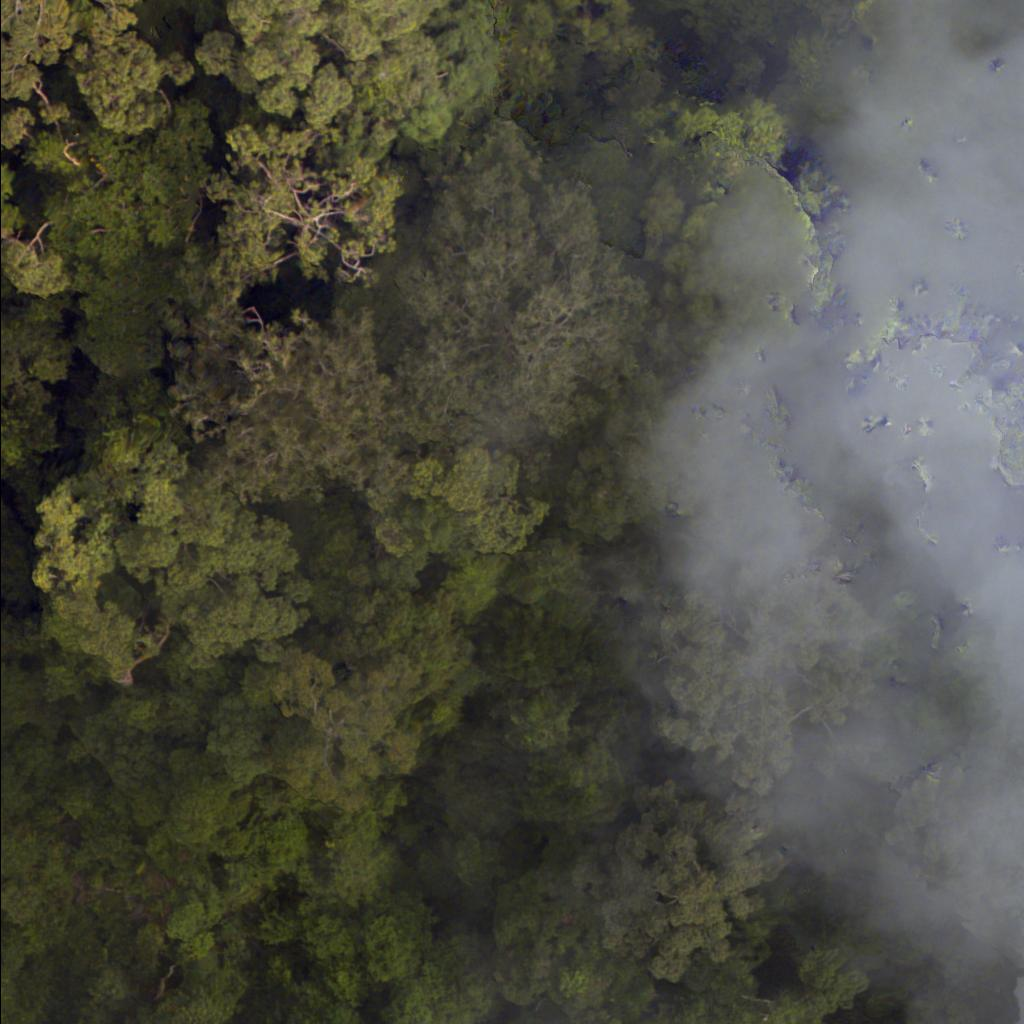crown: (25, 438, 337, 668), (212, 0, 504, 144), (578, 798, 786, 978)
